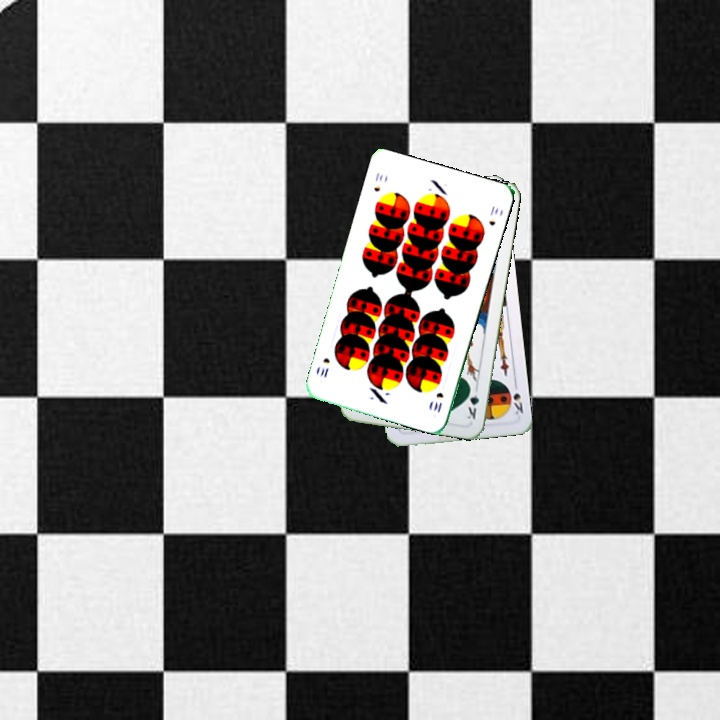GK: (462, 382, 481, 422)
S10: (429, 388, 446, 415), (370, 168, 386, 194)
SK: (509, 378, 526, 417)
